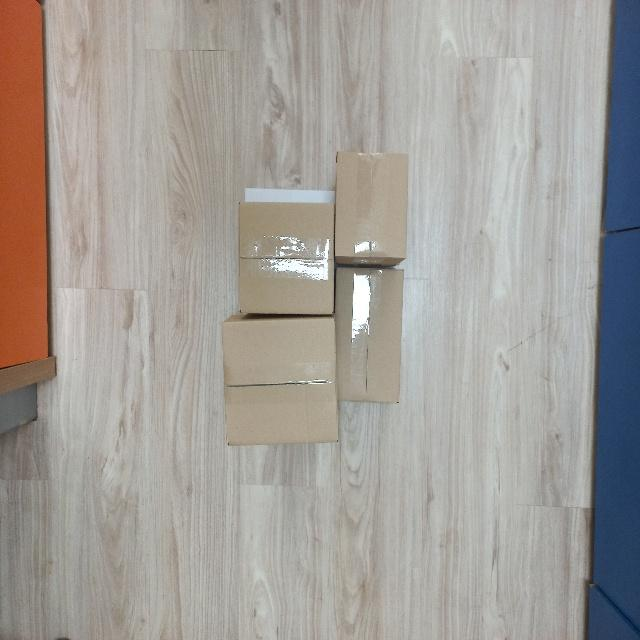box: (221, 315, 341, 447), (237, 201, 339, 318), (333, 264, 404, 408), (332, 148, 410, 269)
